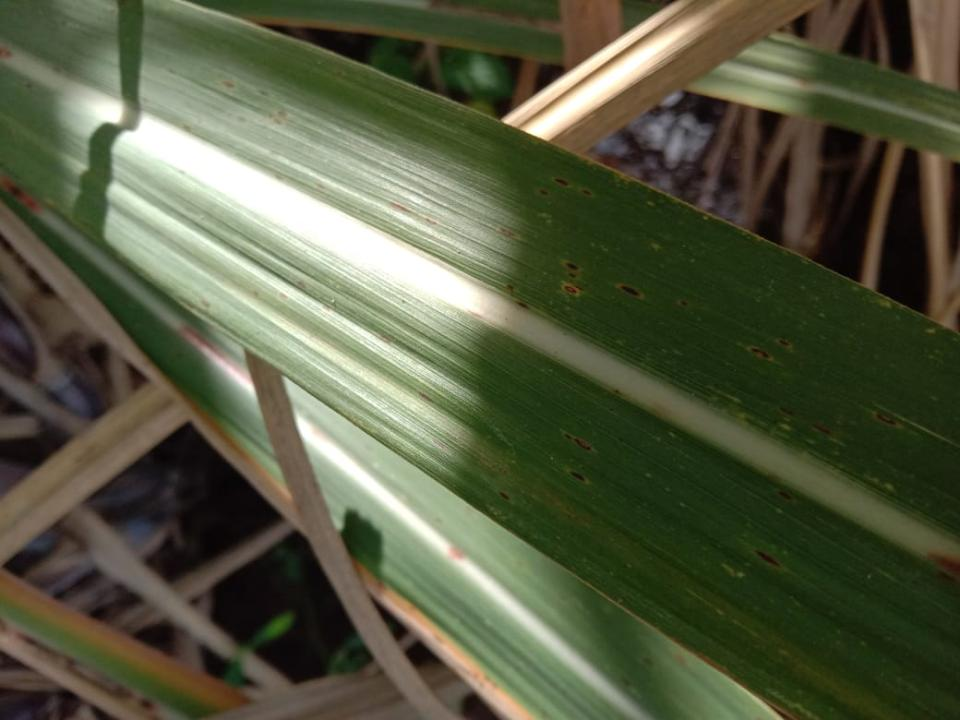RedRot: (174, 323, 253, 384), (0, 174, 44, 212), (927, 551, 959, 577), (450, 542, 466, 560), (0, 45, 14, 60)
Rust: (563, 432, 591, 450), (873, 412, 901, 428), (754, 550, 780, 566), (48, 61, 70, 79), (776, 487, 795, 503), (618, 285, 641, 298), (750, 347, 771, 360), (270, 110, 286, 126), (554, 175, 571, 188), (393, 201, 412, 212), (498, 225, 516, 236), (562, 284, 584, 293), (571, 470, 586, 483), (813, 423, 829, 435), (434, 440, 448, 452), (255, 88, 270, 99), (563, 260, 579, 270), (497, 490, 510, 502), (419, 392, 433, 402), (423, 216, 440, 224), (780, 407, 793, 417), (220, 80, 234, 89), (506, 283, 514, 296), (779, 339, 790, 348), (514, 301, 528, 308), (380, 335, 392, 343), (183, 121, 192, 131), (538, 189, 549, 197), (201, 298, 210, 307), (315, 181, 325, 189), (297, 280, 305, 290), (581, 188, 592, 195), (679, 300, 687, 308), (251, 291, 260, 298), (568, 272, 577, 278), (613, 389, 621, 395), (280, 293, 288, 299), (239, 117, 245, 123)
Yellow: (0, 566, 250, 712), (348, 553, 541, 719), (168, 374, 297, 509)
